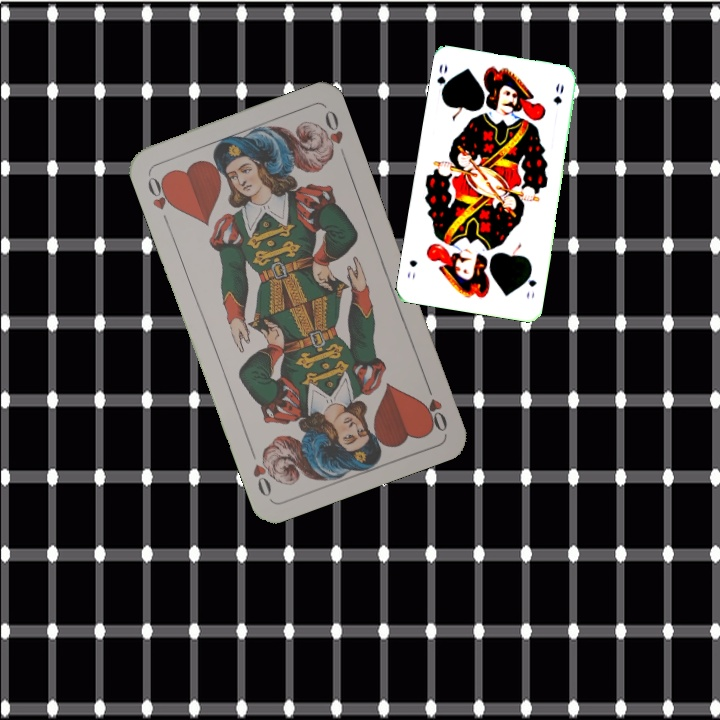GO: (433, 60, 453, 101), (522, 265, 539, 302)
HO: (143, 172, 177, 227), (419, 377, 450, 435)
